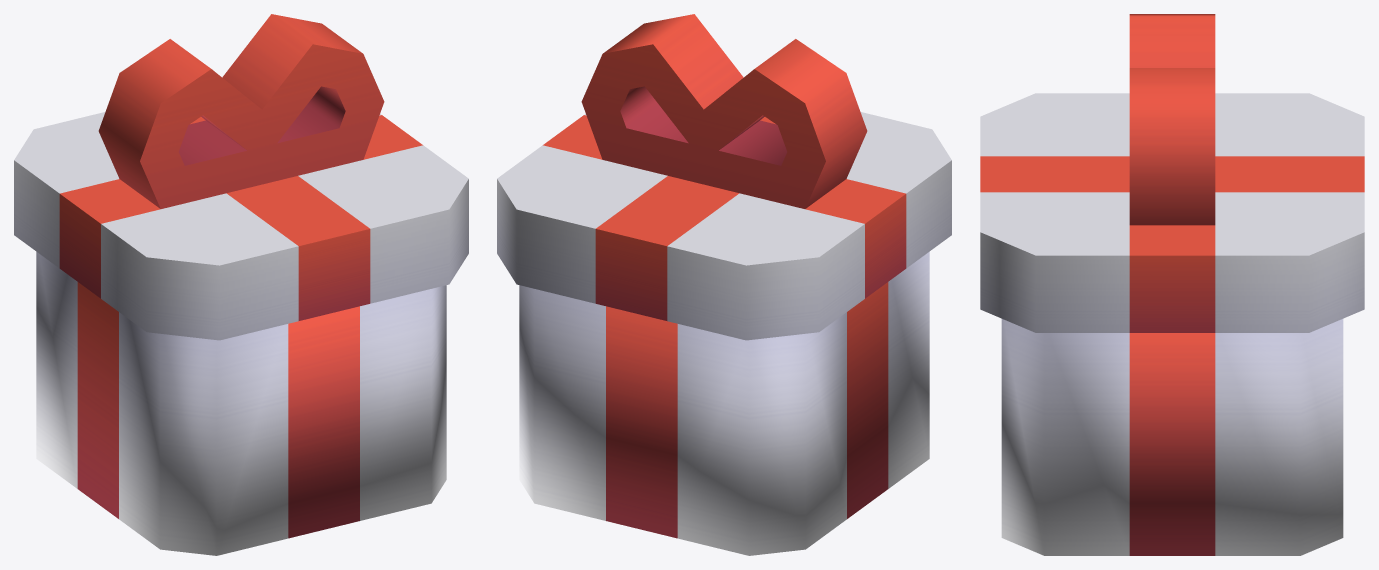
Rendered from present_white_cube.glb.
3 renders of one model, left to right at view 1: azimuth 30°, elevation 25°; view 2: azimuth 150°, elevation 25°; view 3: azimuth 270°, elevation 25°, orthographic. The views are drawn at different scales.
Parts seen in each view (by area): view 1: present-a-cube; view 2: present-a-cube; view 3: present-a-cube.
Part boxes in pixels (box(x1,y1,x2,y2)): present-a-cube: box(14, 14, 468, 555); present-a-cube: box(497, 14, 951, 555); present-a-cube: box(980, 14, 1364, 555).
Size of the model in its own units: 0.45 by 0.5707 by 0.45.
Materials: 1 (1 with a texture image).
